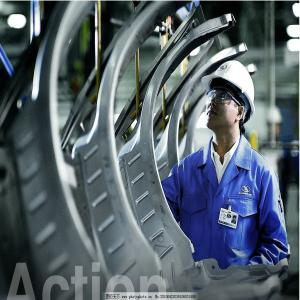white: (202, 62, 258, 138)
